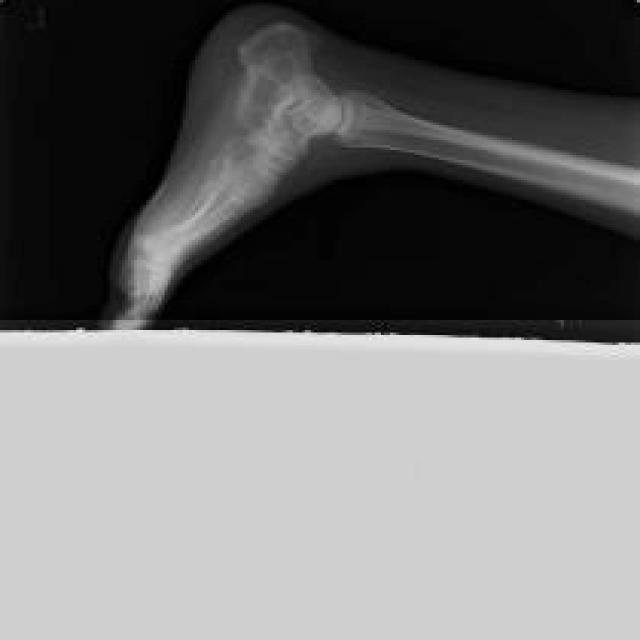normal: (117, 22, 638, 318)
